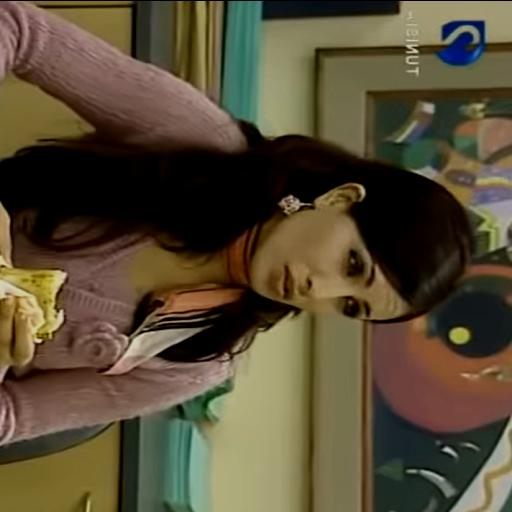Dalanda: (250, 182, 464, 322)
